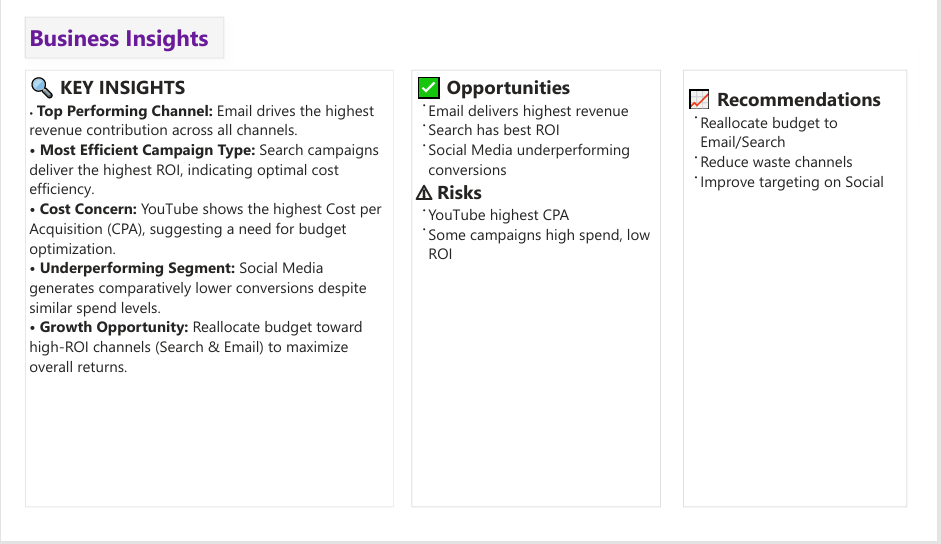

What the dashboard file says about the page in this screenshot:
{"tool":"powerbi","page":{"name":"Page 3","canvas":[1280,720],"ordinal":2},"visuals":[{"type":"textbox","box":[9.6,0,283.5,58.9],"z":0},{"type":"textbox","box":[9.6,74.9,524.1,621.2],"z":2000},{"type":"textbox","box":[944.6,74.9,318.6,621.2],"z":3000},{"type":"textbox","box":[559.1,74.9,353.6,621.2],"z":4000}]}

Visuals, with their boxes in screenshot pixels (x1, y1, x2, y2), scaled from the page's 1280x720 canvas onto the 941x544 screenshot:
textbox: detection(7, 0, 215, 45)
textbox: detection(7, 57, 392, 526)
textbox: detection(694, 57, 929, 526)
textbox: detection(411, 57, 671, 526)
